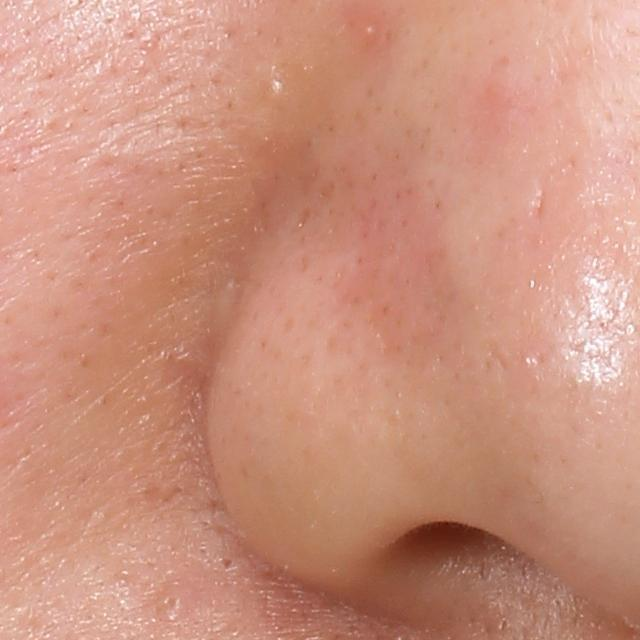atrophic_scar: (528, 154, 577, 232)
comedo: (215, 553, 239, 574), (361, 24, 377, 39)
